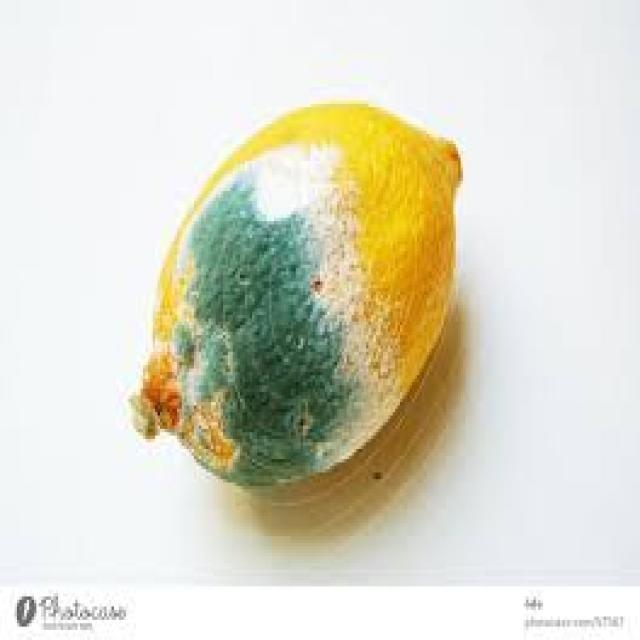organic waste: (126, 97, 461, 479)
